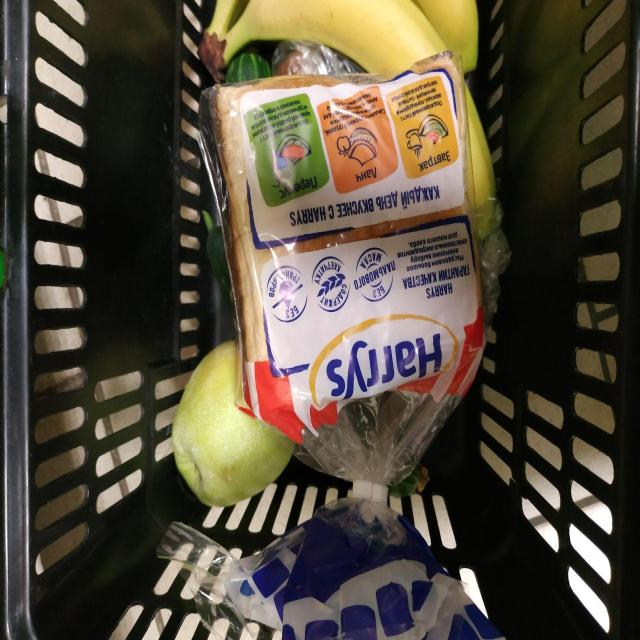Apple: (172, 342, 295, 506)
Banana: (224, 0, 446, 74), (414, 0, 479, 72), (466, 92, 495, 205), (206, 0, 249, 40)
Bread: (158, 52, 500, 638)
Cucumber: (225, 52, 271, 83)
